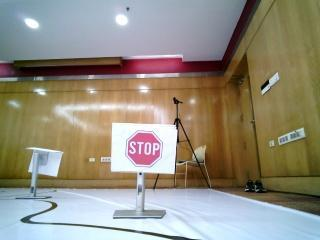stop: (111, 124, 177, 166)
